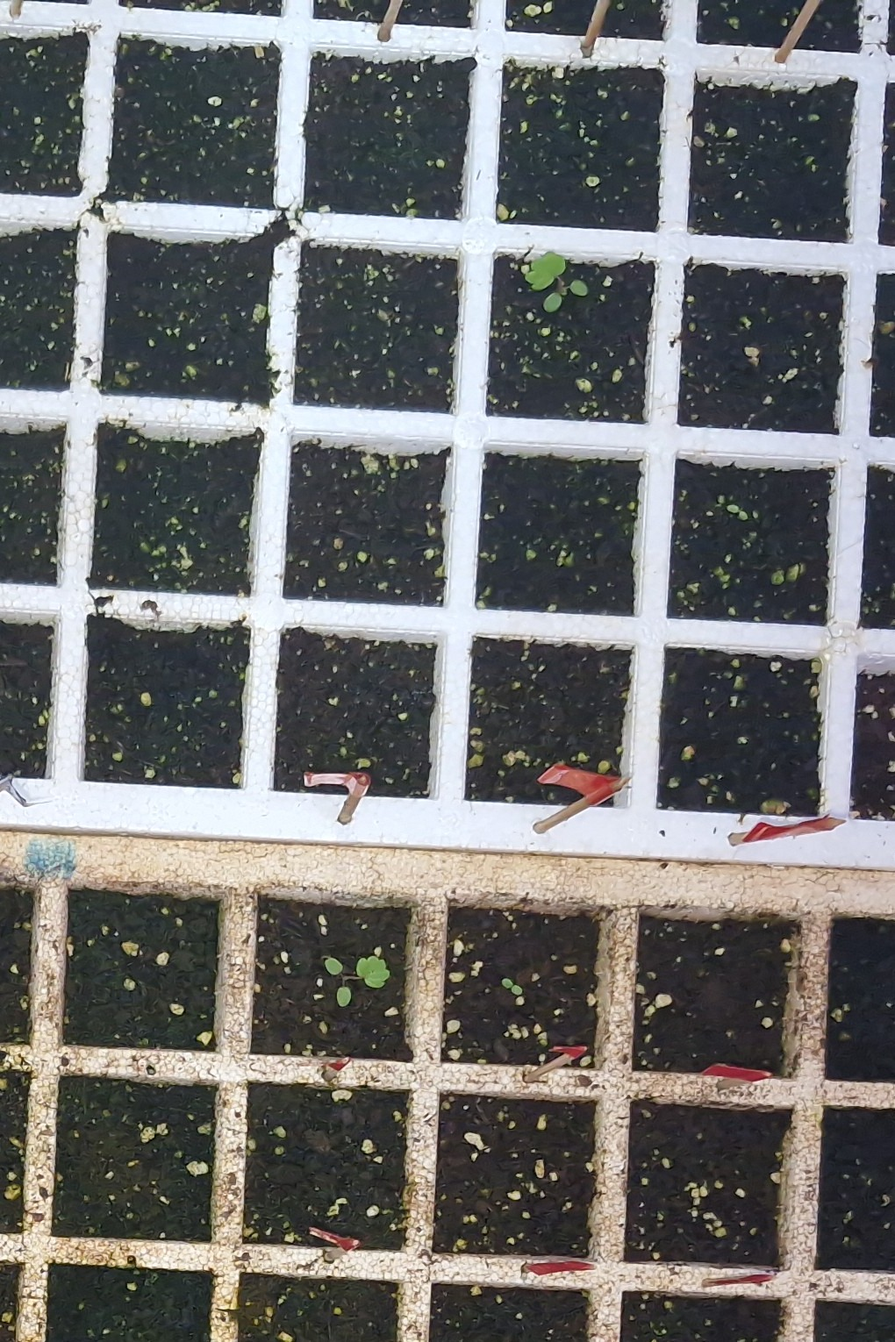Folha: (357, 956, 390, 988), (326, 959, 343, 974)
Germinacao: (324, 956, 390, 1007), (502, 978, 522, 995), (337, 987, 351, 1006)
